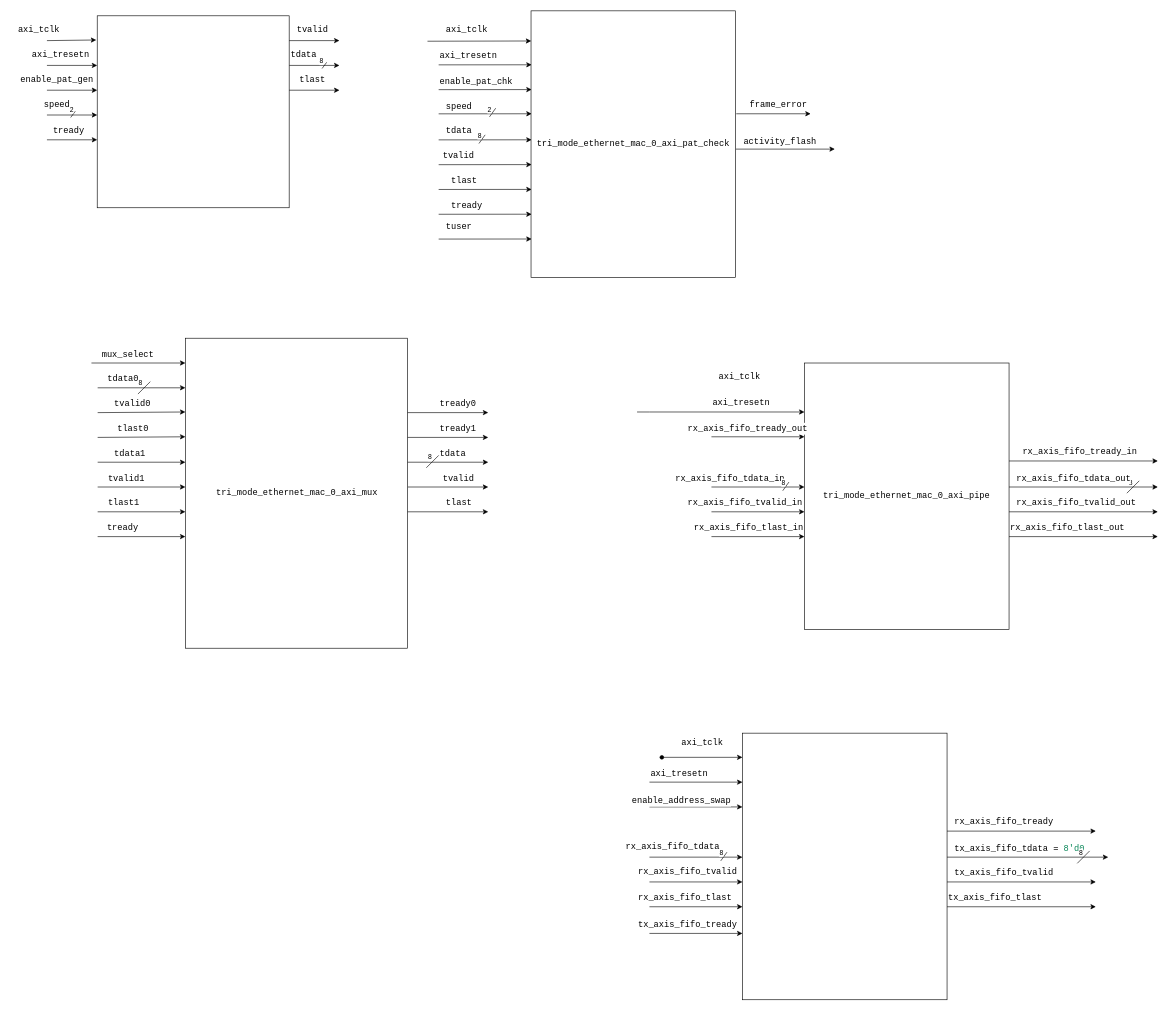
The diagram is 1174 pixels wide and 1011 high, and some of its shapes have lost their labels. Here are the shapes that lost their labels. From the top down, the centre of each, then its label:
At point 193,111: "tri_mode_ethernet_mac_0_axi_pat_gen".
At point 844,866: "tri_mode_ethernet_mac_0_address_swap".
